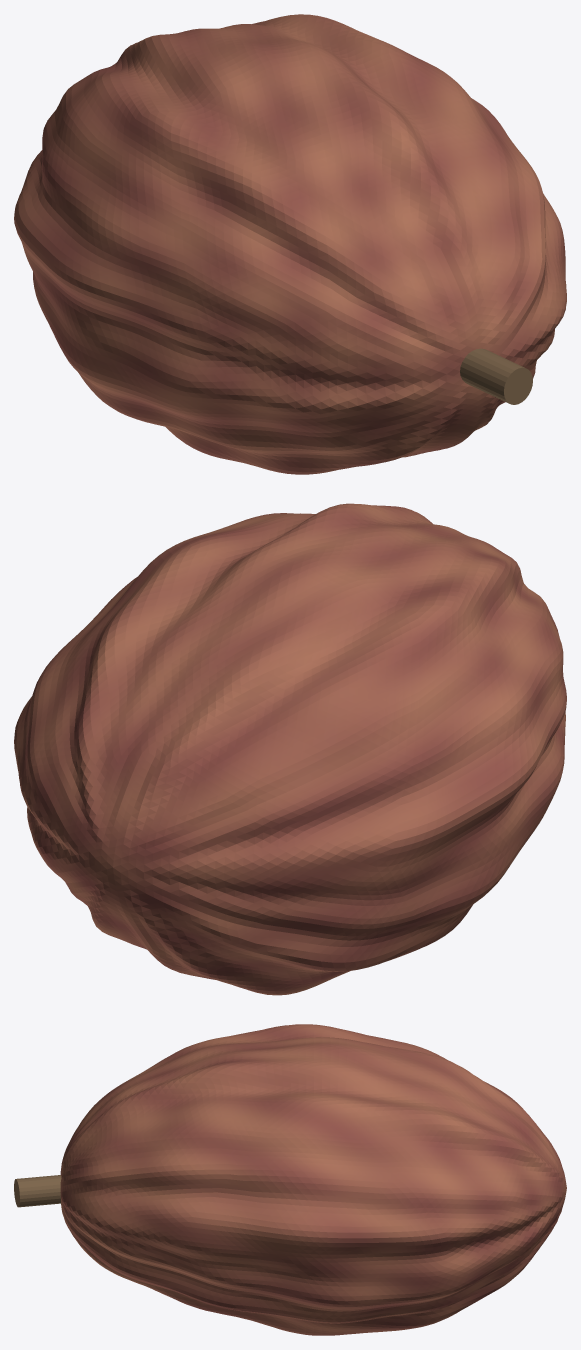
Rendered from hongzao-red-date.glb.
The picture shows the model from 3 angles, top to bottom: view 1: azimuth 30°, elevation 25°; view 2: azimuth 150°, elevation 25°; view 3: azimuth 270°, elevation 25°; orthographic projection. The views are drawn at different scales.
Visible parts, largest first — view 1: red_date_fruit, stem; view 2: red_date_fruit; view 3: red_date_fruit, stem.
Part boxes in pixels (x1,y1,x2,y2): red_date_fruit: [14, 14, 566, 474]; stem: [460, 348, 532, 404]; red_date_fruit: [14, 503, 566, 995]; red_date_fruit: [60, 1024, 566, 1335]; stem: [14, 1175, 61, 1207].
Size of the model in its own units: 0.0361 by 0.0292 by 0.054.
